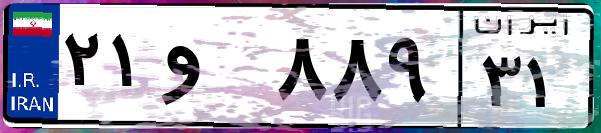1: (525, 38, 570, 115), (110, 28, 158, 98)
2: (57, 26, 110, 100)
3: (475, 38, 525, 113)
8: (270, 28, 330, 110), (330, 28, 385, 110)
9: (385, 28, 445, 110)
و: (158, 20, 270, 120)
